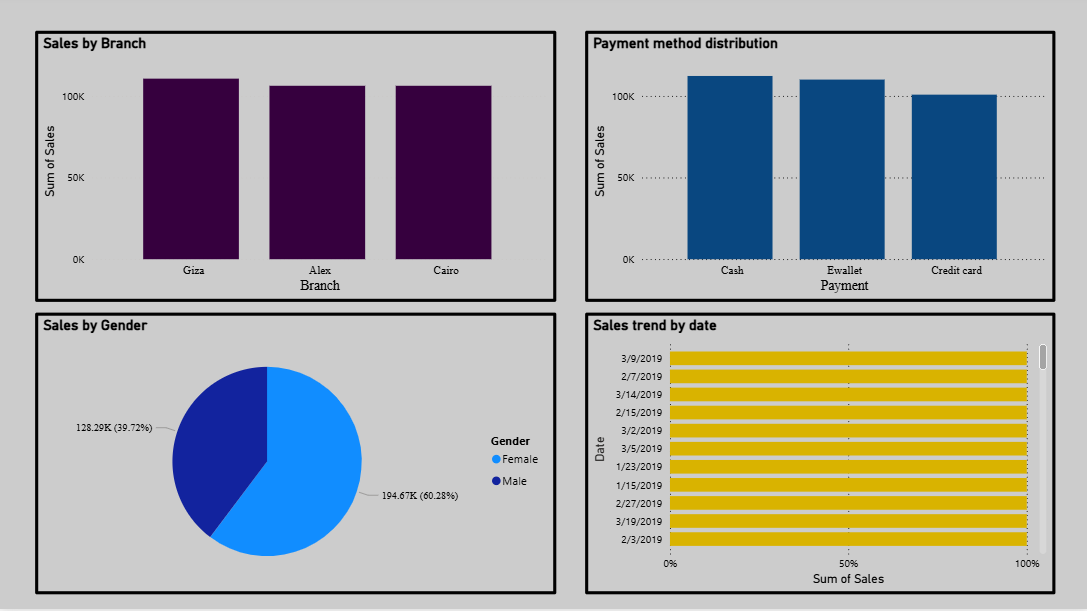

The page's visual inventory and layout, read from the dashboard file:
{"tool":"powerbi","page":{"name":"Page 2","canvas":[1280,720],"ordinal":1},"visuals":[{"type":"clusteredColumnChart","title":"Sales by Branch","fields":{"Category":["SuperMarket Analysis.Branch"],"Y":["Sum(SuperMarket Analysis.Sales)"]},"box":[43.5,41.9,610.9,317.5],"z":0},{"type":"clusteredColumnChart","title":"Payment method distribution","fields":{"Category":["SuperMarket Analysis.Payment"],"Y":["Sum(SuperMarket Analysis.Sales)"]},"box":[688.2,41.9,551.2,317.5],"z":1000},{"type":"pieChart","title":"Sales by Gender","fields":{"Category":["SuperMarket Analysis.Gender"],"Y":["Sum(SuperMarket Analysis.Sales)"]},"box":[43.5,372.3,610.9,330.4],"z":2000},{"type":"hundredPercentStackedBarChart","title":"Sales trend by date","fields":{"Y":["Sum(SuperMarket Analysis.Sales)"],"Category":["SuperMarket Analysis.Date"]},"box":[688.2,372.3,551.2,330.4],"z":3000}]}

Visuals, with their boxes in screenshot pixels (x1, y1, x2, y2), scaled from the page's 1280x720 canvas onto the 1087x611 screenshot:
"Sales by Branch" clusteredColumnChart: x1=37, y1=36, x2=556, y2=305
"Payment method distribution" clusteredColumnChart: x1=584, y1=36, x2=1053, y2=305
"Sales by Gender" pieChart: x1=37, y1=316, x2=556, y2=596
"Sales trend by date" hundredPercentStackedBarChart: x1=584, y1=316, x2=1053, y2=596
